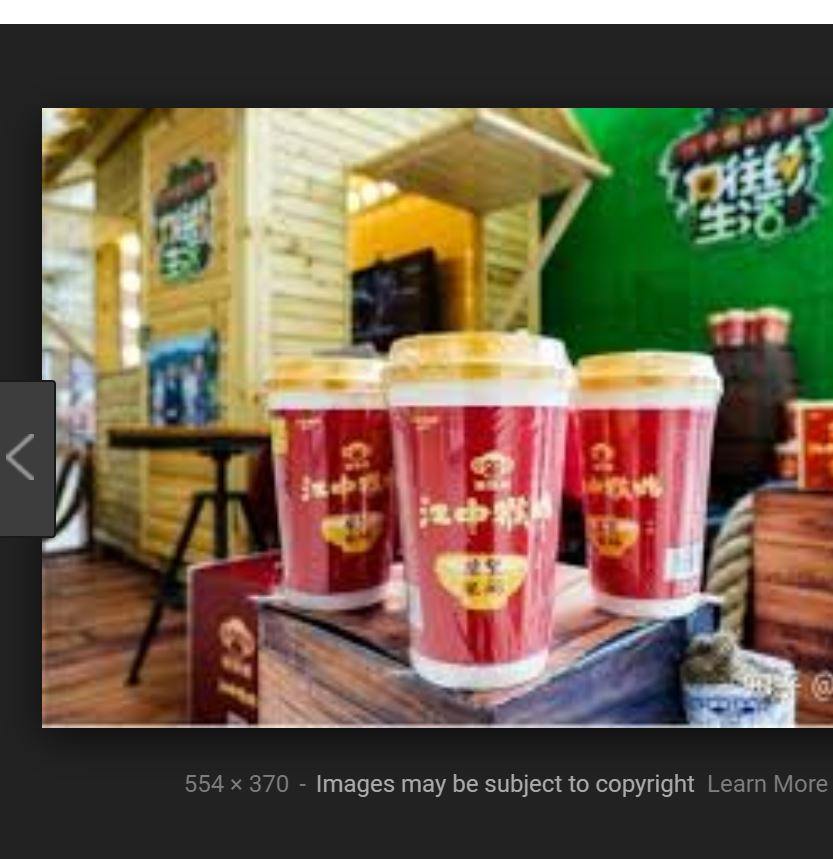cup: (386, 330, 573, 686), (573, 350, 720, 620), (264, 356, 393, 608)
